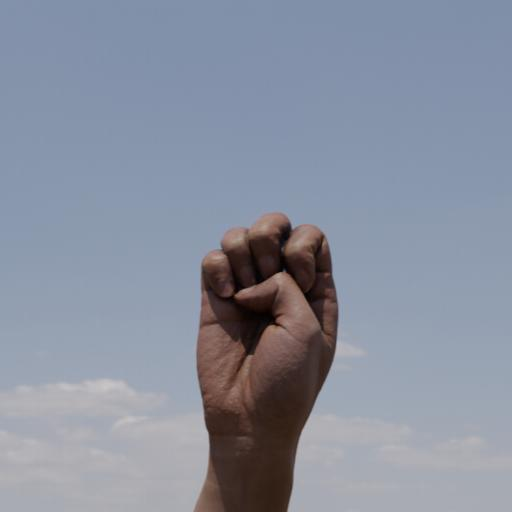E: (184, 208, 348, 472)
